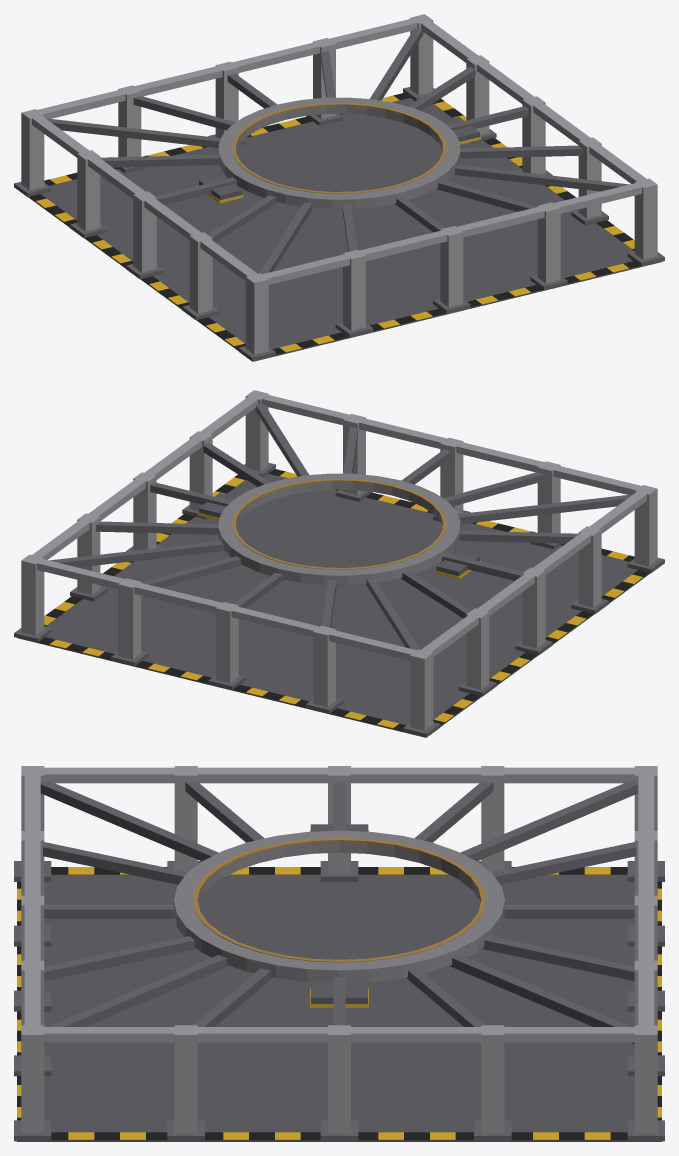
File: vge_gun_frame_9x9.obj
The picture shows the model from 3 angles, top to bottom: view 1: azimuth 30°, elevation 25°; view 2: azimuth 150°, elevation 25°; view 3: azimuth 270°, elevation 25°; orthographic projection. The views are drawn at different scales.
Parts seen in each view (by area): view 1: vge_gun_frame_9x9_0, vge_gun_frame_9x9_137, vge_gun_frame_9x9_133, vge_gun_frame_9x9_135, vge_gun_frame_9x9_136, vge_gun_frame_9x9_134, vge_gun_frame_9x9_102, vge_gun_frame_9x9_143, vge_gun_frame_9x9_116, vge_gun_frame_9x9_150, vge_gun_frame_9x9_120, vge_gun_frame_9x9_124 (+26 smaller); view 2: vge_gun_frame_9x9_0, vge_gun_frame_9x9_137, vge_gun_frame_9x9_135, vge_gun_frame_9x9_133, vge_gun_frame_9x9_136, vge_gun_frame_9x9_134, vge_gun_frame_9x9_110, vge_gun_frame_9x9_139, vge_gun_frame_9x9_154, vge_gun_frame_9x9_118, vge_gun_frame_9x9_132, vge_gun_frame_9x9_122 (+26 smaller); view 3: vge_gun_frame_9x9_0, vge_gun_frame_9x9_137, vge_gun_frame_9x9_134, vge_gun_frame_9x9_136, vge_gun_frame_9x9_135, vge_gun_frame_9x9_133, vge_gun_frame_9x9_138, vge_gun_frame_9x9_139, vge_gun_frame_9x9_143, vge_gun_frame_9x9_150, vge_gun_frame_9x9_154, vge_gun_frame_9x9_132 (+33 smaller).
Part boxes in pixels (<box>): vge_gun_frame_9x9_0: <box>28,98,661,361</box>; vge_gun_frame_9x9_137: <box>218,97,460,209</box>; vge_gun_frame_9x9_133: <box>255,181,648,284</box>; vge_gun_frame_9x9_135: <box>30,17,420,118</box>; vge_gun_frame_9x9_136: <box>421,21,646,183</box>; vge_gun_frame_9x9_134: <box>31,116,257,280</box>; vge_gun_frame_9x9_102: <box>245,273,268,354</box>; vge_gun_frame_9x9_143: <box>46,118,220,148</box>; vge_gun_frame_9x9_116: <box>440,226,463,307</box>; vge_gun_frame_9x9_150: <box>454,165,637,195</box>; vge_gun_frame_9x9_120: <box>537,202,560,283</box>; vge_gun_frame_9x9_124: <box>634,178,657,259</box>; vge_gun_frame_9x9_0: <box>17,474,650,737</box>; vge_gun_frame_9x9_137: <box>218,473,460,585</box>; vge_gun_frame_9x9_135: <box>35,557,423,660</box>; vge_gun_frame_9x9_133: <box>255,393,648,494</box>; vge_gun_frame_9x9_136: <box>32,397,258,559</box>; vge_gun_frame_9x9_134: <box>421,492,647,656</box>; vge_gun_frame_9x9_110: <box>410,649,433,730</box>; vge_gun_frame_9x9_139: <box>458,494,632,524</box>; vge_gun_frame_9x9_154: <box>41,541,224,571</box>; vge_gun_frame_9x9_118: <box>215,602,238,683</box>; vge_gun_frame_9x9_132: <box>21,554,44,635</box>; vge_gun_frame_9x9_122: <box>118,578,141,659</box>; vge_gun_frame_9x9_0: <box>17,874,661,1141</box>; vge_gun_frame_9x9_137: <box>174,830,504,982</box>; vge_gun_frame_9x9_134: <box>41,767,638,783</box>; vge_gun_frame_9x9_136: <box>40,1027,638,1042</box>; vge_gun_frame_9x9_135: <box>638,771,654,1025</box>; vge_gun_frame_9x9_133: <box>24,771,40,1025</box>; vge_gun_frame_9x9_138: <box>192,837,486,962</box>; vge_gun_frame_9x9_139: <box>40,780,218,861</box>; vge_gun_frame_9x9_143: <box>460,780,638,861</box>; vge_gun_frame_9x9_150: <box>44,954,228,1044</box>; vge_gun_frame_9x9_154: <box>450,954,634,1044</box>; vge_gun_frame_9x9_132: <box>634,1025,657,1132</box>.
Size of the model in its own units: 9.04 by 1.62 by 9.04.
